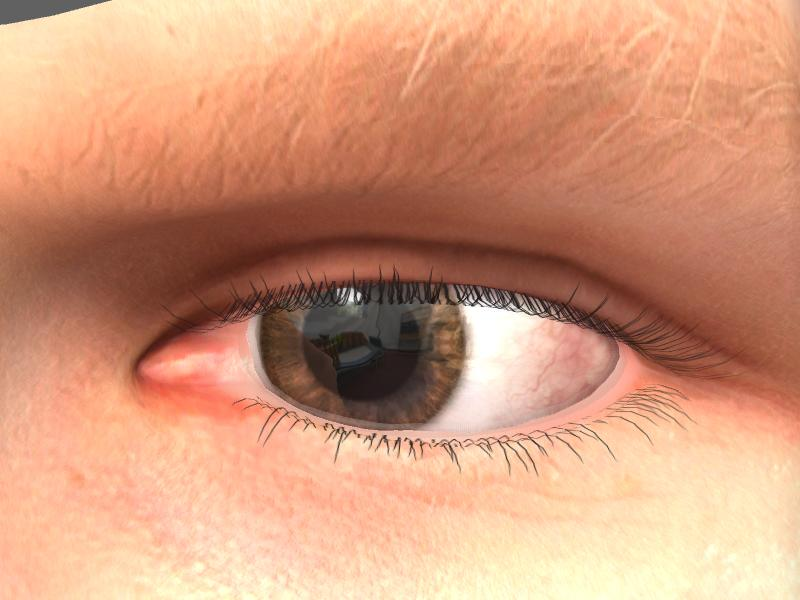eye: (261, 281, 470, 437)
